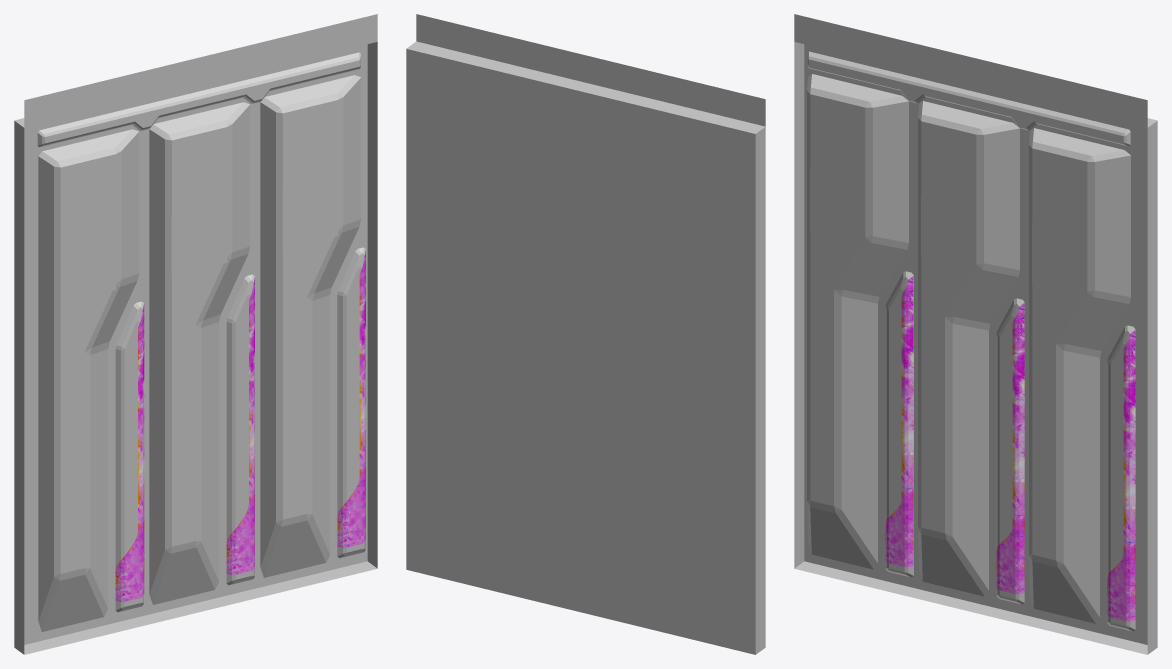
The model's file is wall_01_2x3_a.fbx.
3 views of the same model, side by side, from view 1: azimuth 30°, elevation 25°; view 2: azimuth 150°, elevation 25°; view 3: azimuth 330°, elevation 25° (orthographic).
Parts seen in each view (by area): view 1: Plane.223, Plane.225, Plane.224, Plane.222, Plane.227, Plane.226, Plane.228; view 2: Plane.225, Plane.222; view 3: Plane.223, Plane.225, Plane.222, Plane.226, Plane.224, Plane.227, Plane.228.
Part boxes in pixels (box(x1,y1,x2,y2)): Plane.223: box(38, 75, 361, 631); Plane.225: box(14, 42, 377, 654); Plane.224: box(115, 247, 365, 612); Plane.222: box(14, 14, 377, 654); Plane.227: box(60, 174, 338, 303); Plane.226: box(115, 250, 365, 601); Plane.228: box(37, 52, 360, 147); Plane.225: box(406, 49, 765, 654); Plane.222: box(406, 14, 765, 133); Plane.223: box(807, 74, 1130, 623); Plane.225: box(794, 42, 1157, 654); Plane.222: box(794, 14, 1157, 654); Plane.226: box(885, 276, 1135, 621); Plane.224: box(885, 271, 1135, 631); Plane.227: box(810, 168, 1087, 297); Plane.228: box(807, 51, 1130, 146).
Size of the model in its own units: 2 by 3 by 0.201.
